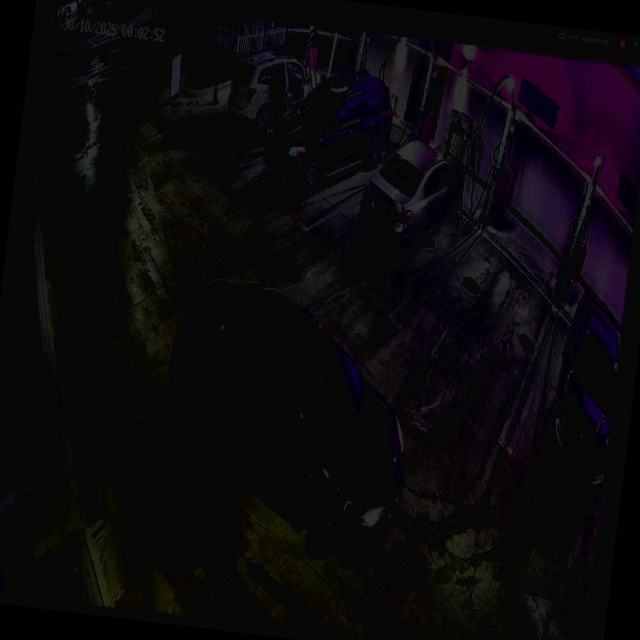Car: (145, 274, 429, 576), (258, 66, 397, 207), (357, 134, 469, 257)
